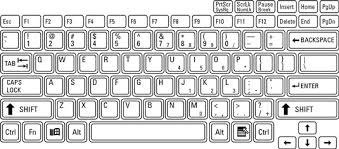keyboard: (5, 0, 336, 148)
